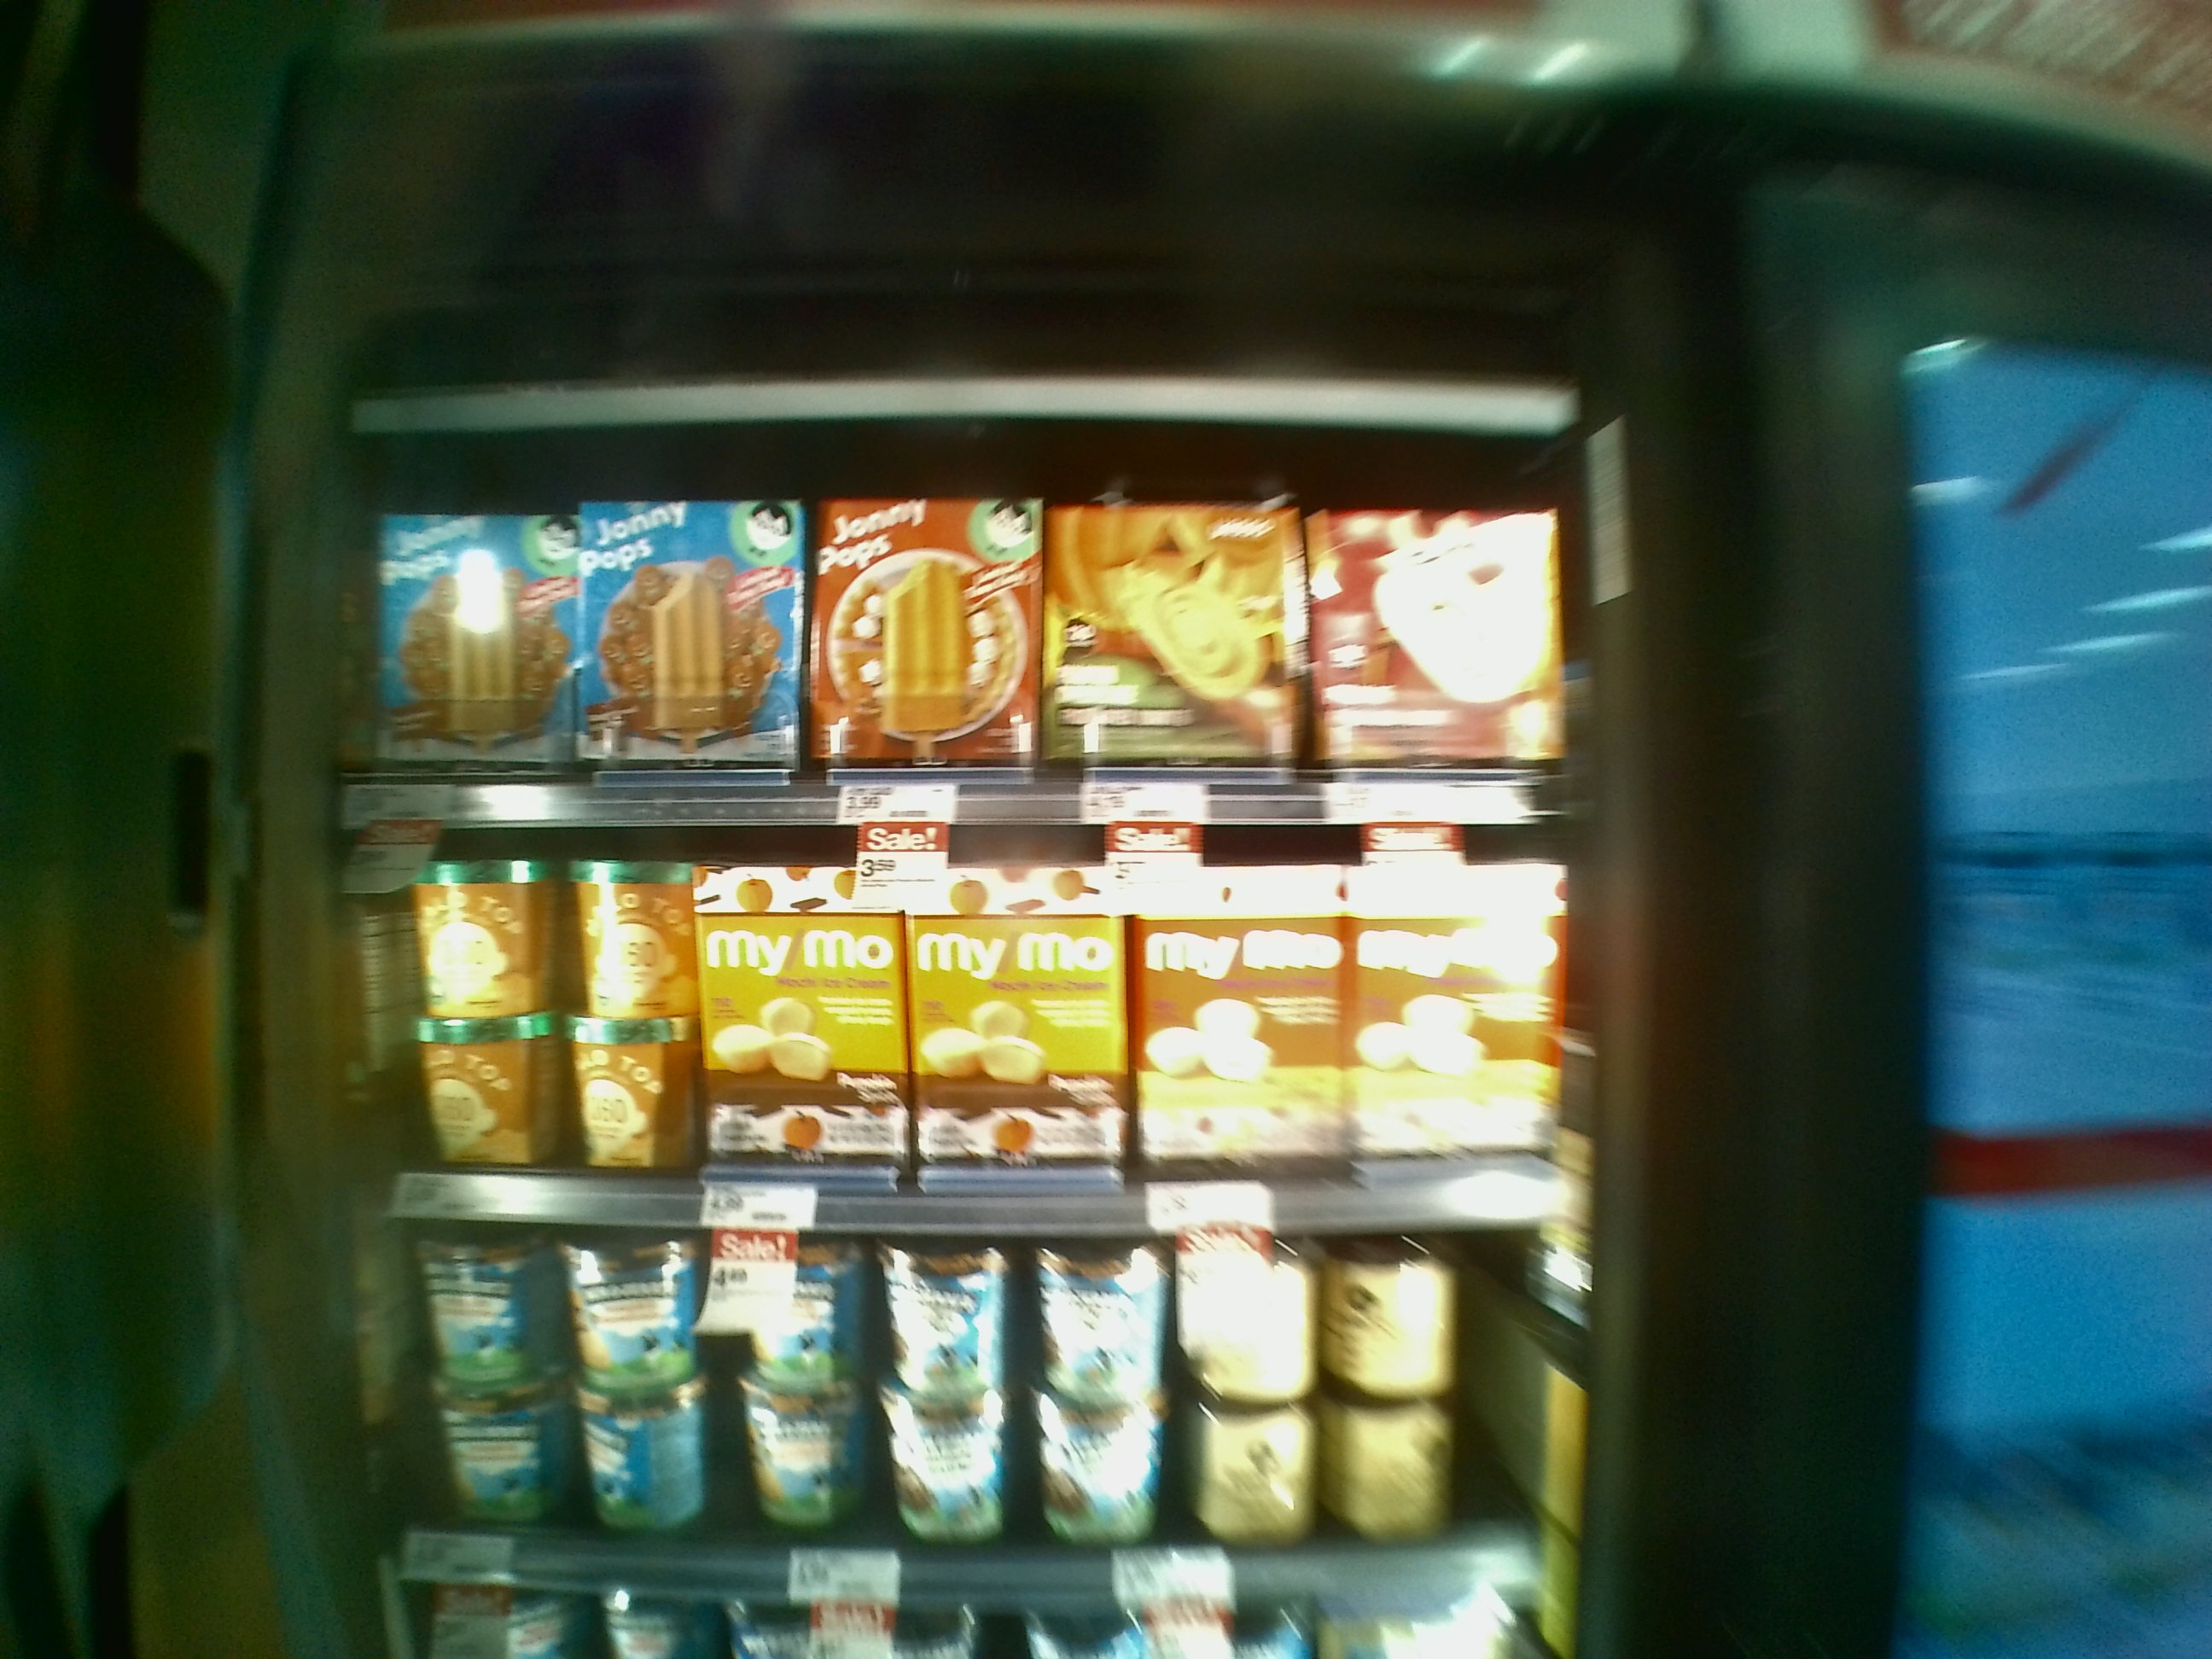shelf: (359, 816, 1576, 1215), (366, 1187, 1550, 1588), (354, 416, 1550, 809)
